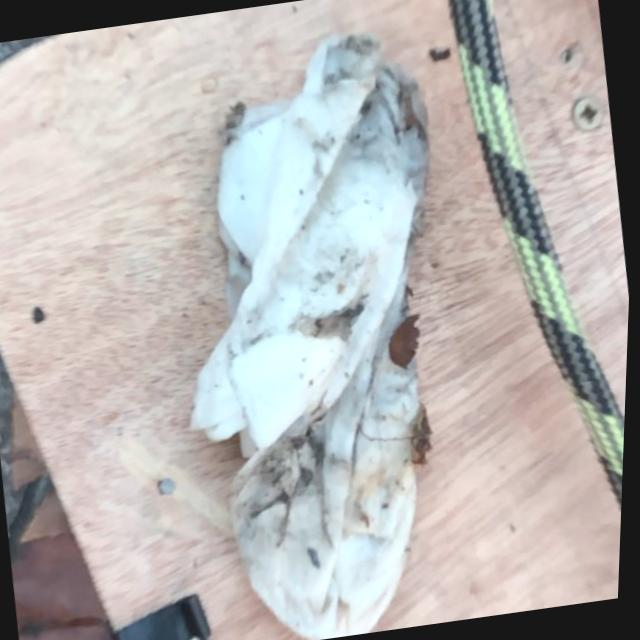Paper: (129, 16, 504, 640)
